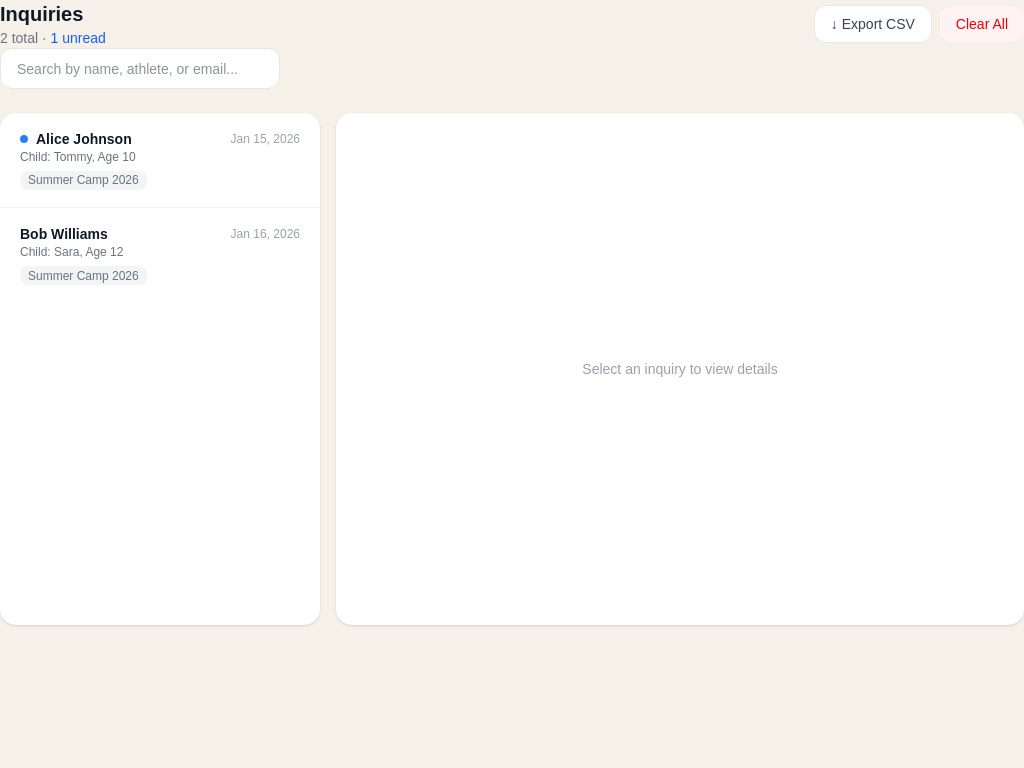
it: Inquiries Page › shows confirmation modal when Clear All is clicked
Expected: the text "Alice Johnson" is shown, [36,129,132,149]
Click the button "Clear All". click: (982, 24)
box: [940,6,1023,42]
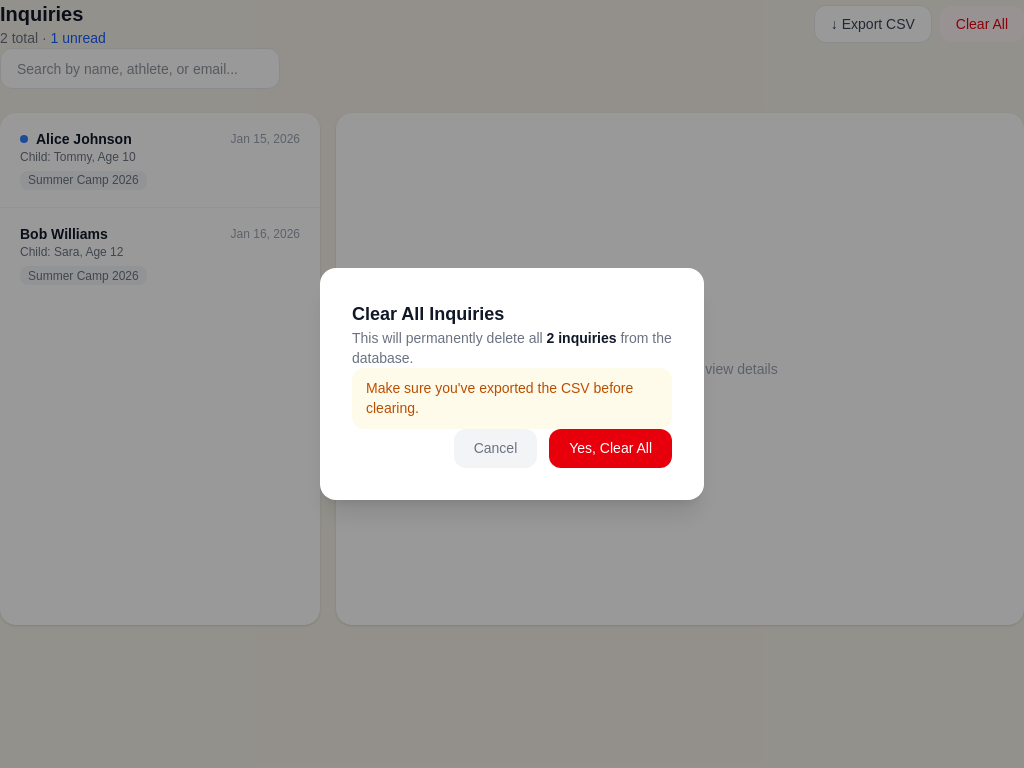
Result: the heading "Clear All Inquiries" is shown at [352,304,504,324]
Result: the text "Make sure you've exported the CSV before clearing." is shown at [352,368,672,429]
